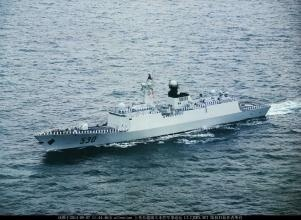warship: (34, 76, 279, 149)
